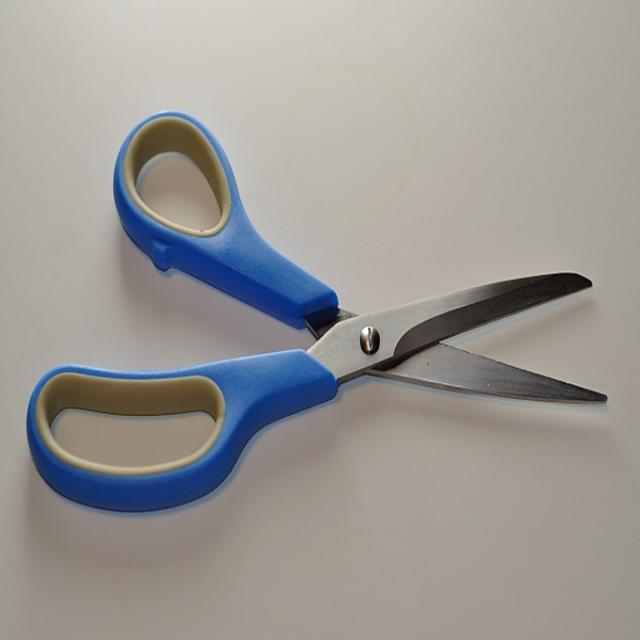scissors: (25, 108, 608, 513)
